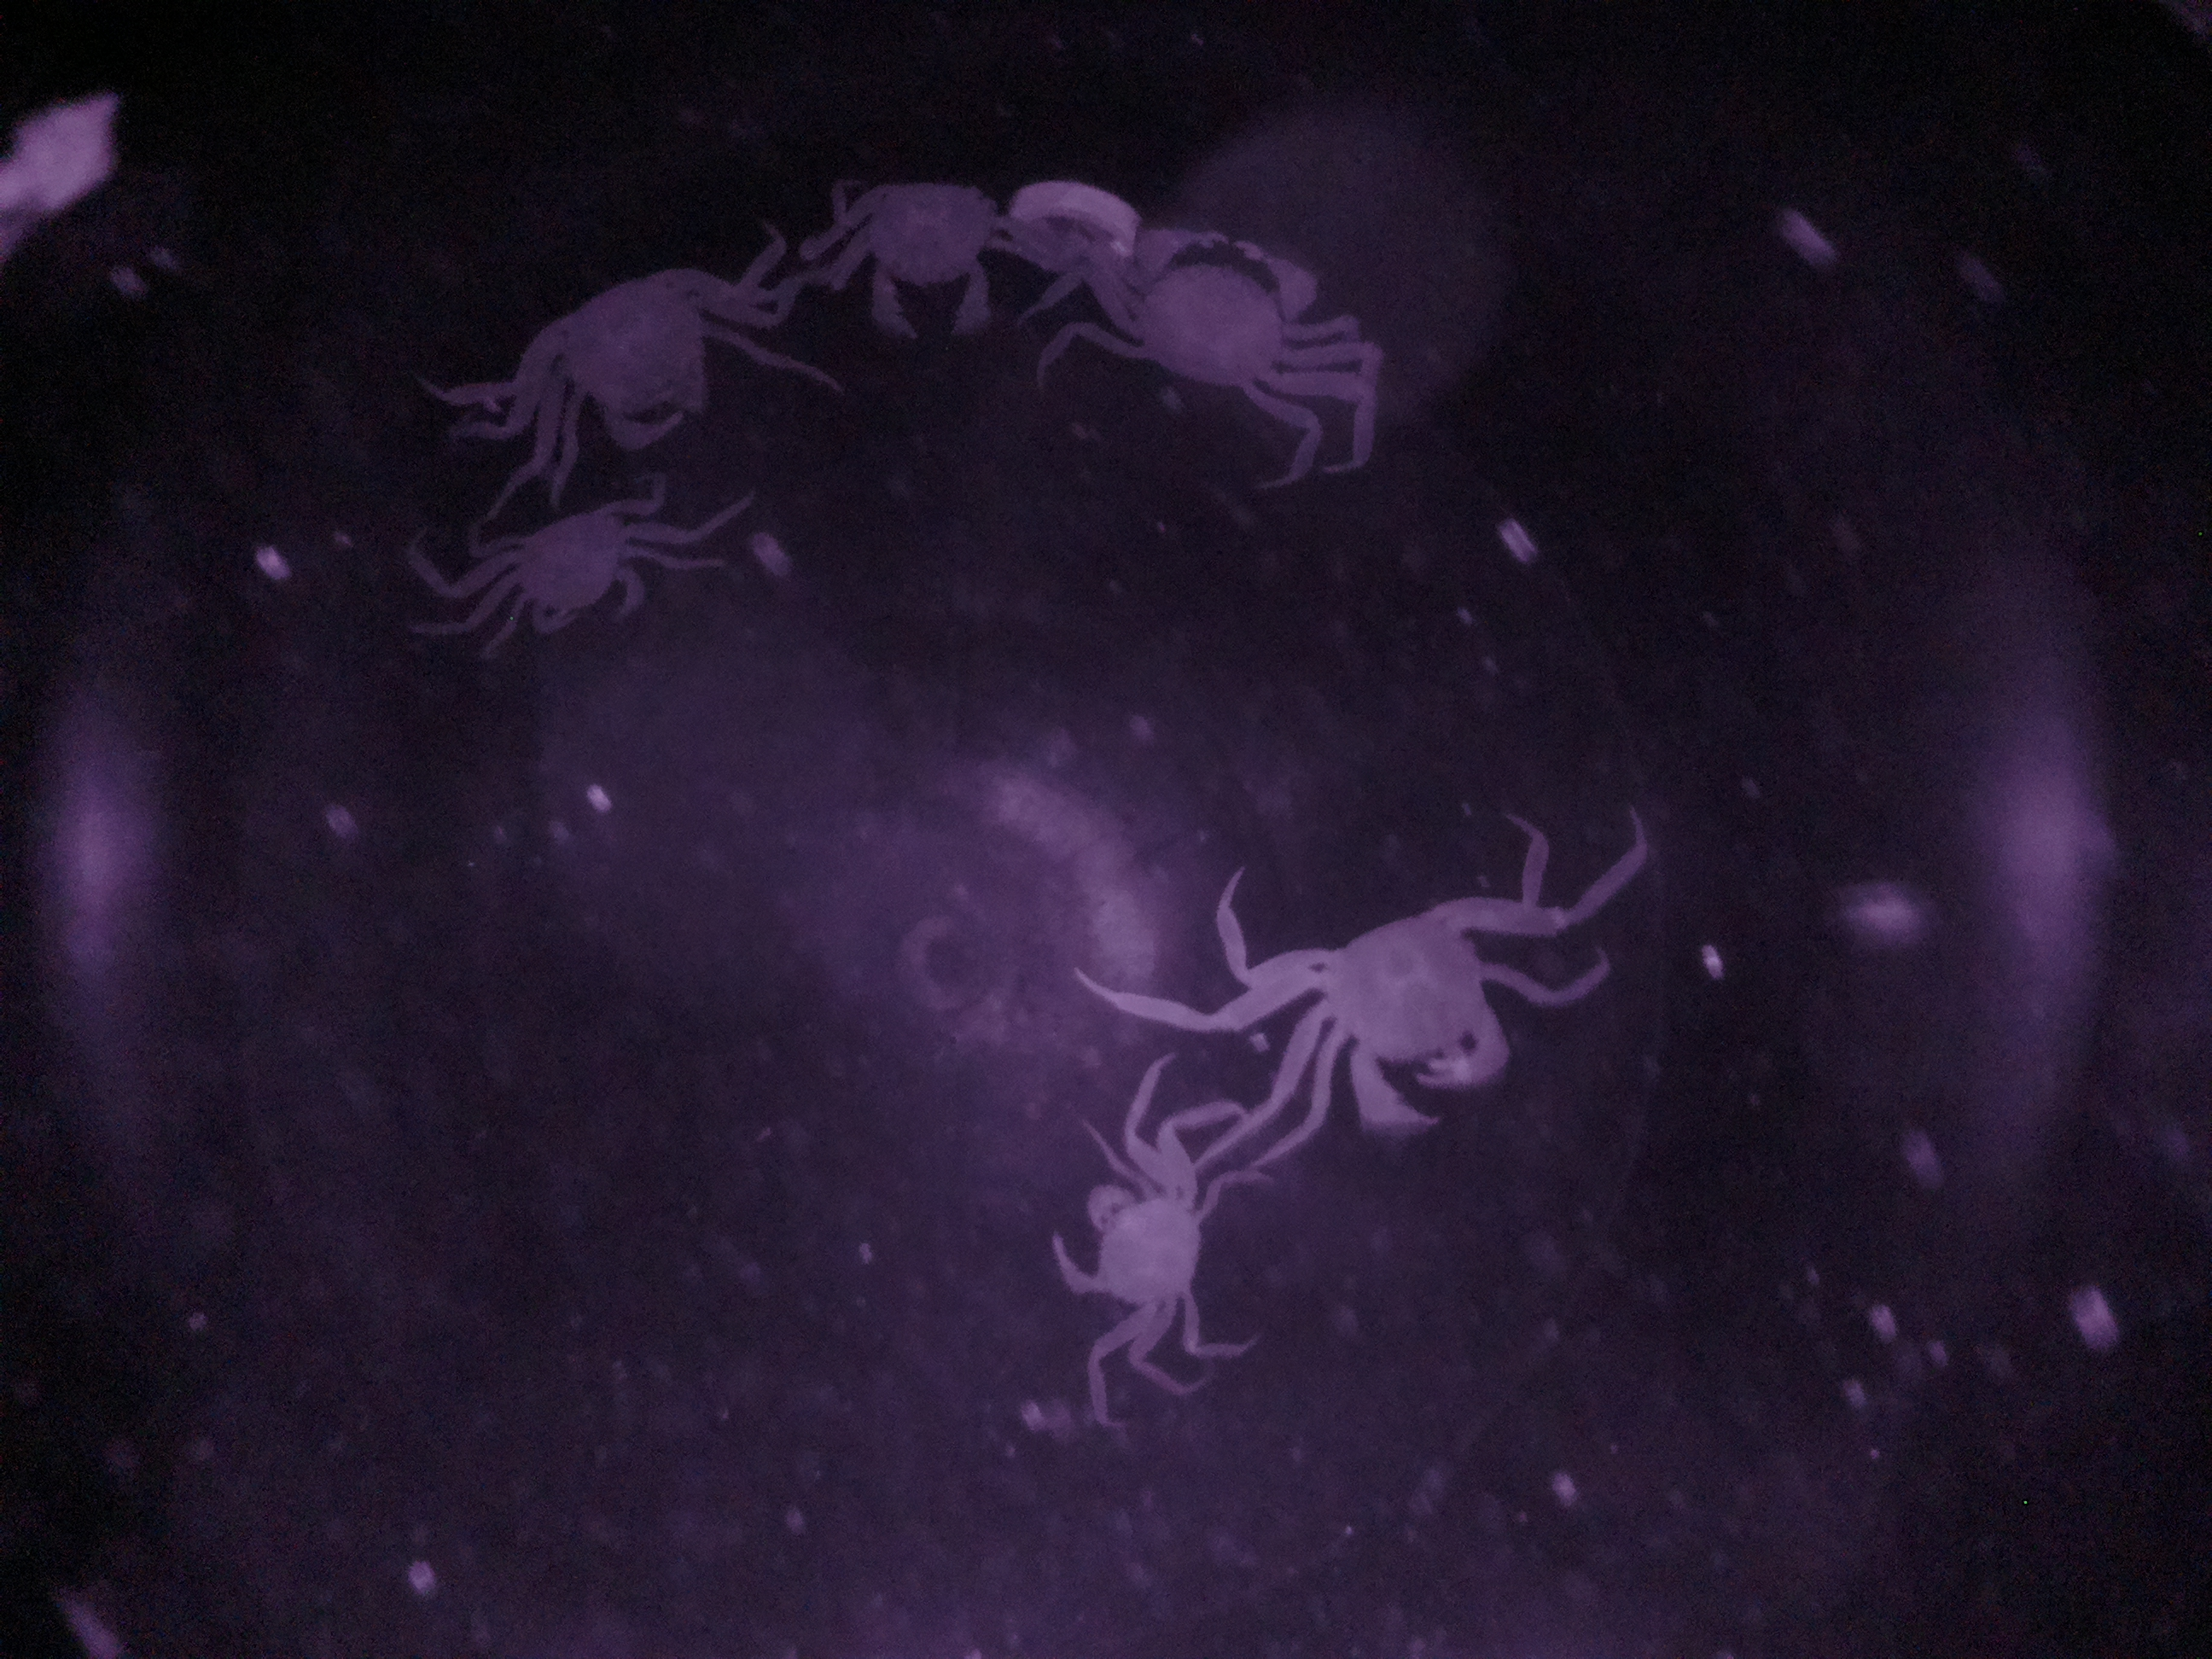Crab: (1221, 864, 1559, 1141), (1059, 214, 1357, 423), (495, 251, 784, 465), (1052, 1126, 1221, 1373), (836, 153, 1022, 357), (458, 490, 678, 643)
